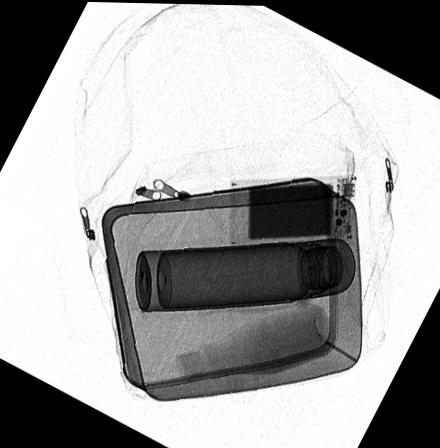Powerbank: (229, 173, 357, 243)
